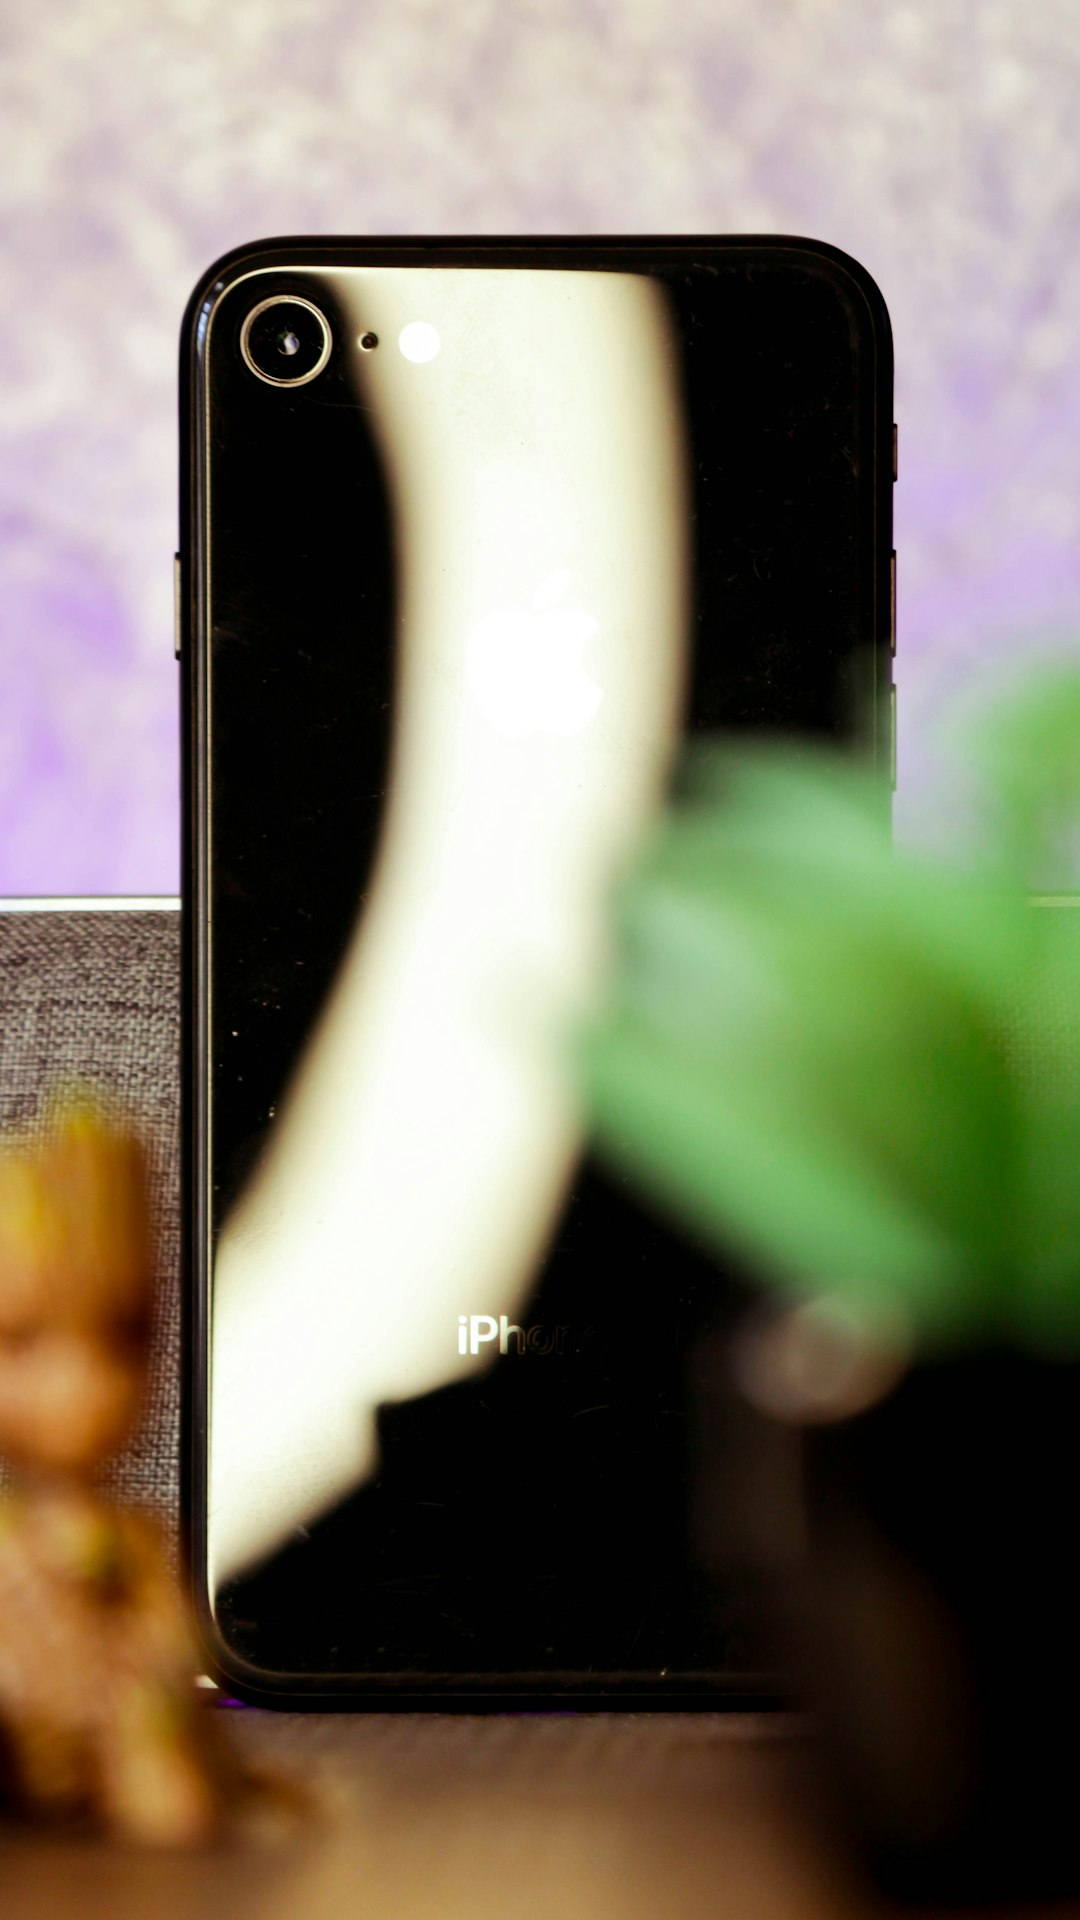phone: (175, 229, 909, 1716)
